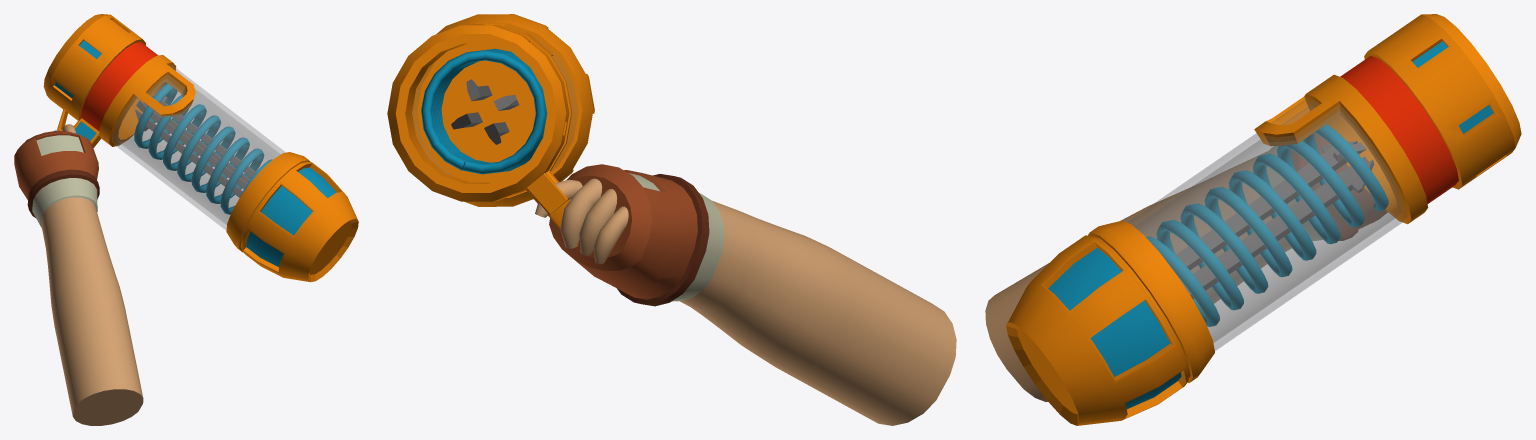
File: 1인칭 청소기 2.FBX
3 renders of one model, left to right at view 1: azimuth 30°, elevation 25°; view 2: azimuth 150°, elevation 25°; view 3: azimuth 270°, elevation 25°, orthographic. The views are drawn at different scales.
Visible parts, largest first — view 1: Cylinder007, Spring001; view 2: Cylinder007, Spring001; view 3: Cylinder007, Spring001.
Boxes of the visible parts, left/top/right/bottom form: Cylinder007: left=14, top=14, right=358, bottom=425; Spring001: left=134, top=83, right=272, bottom=214; Cylinder007: left=387, top=14, right=956, bottom=425; Spring001: left=421, top=48, right=547, bottom=174; Cylinder007: left=985, top=14, right=1521, bottom=425; Spring001: left=1146, top=124, right=1388, bottom=326.
Bounding box in the file's own units: 96.9 × 96.82 × 92.22.
